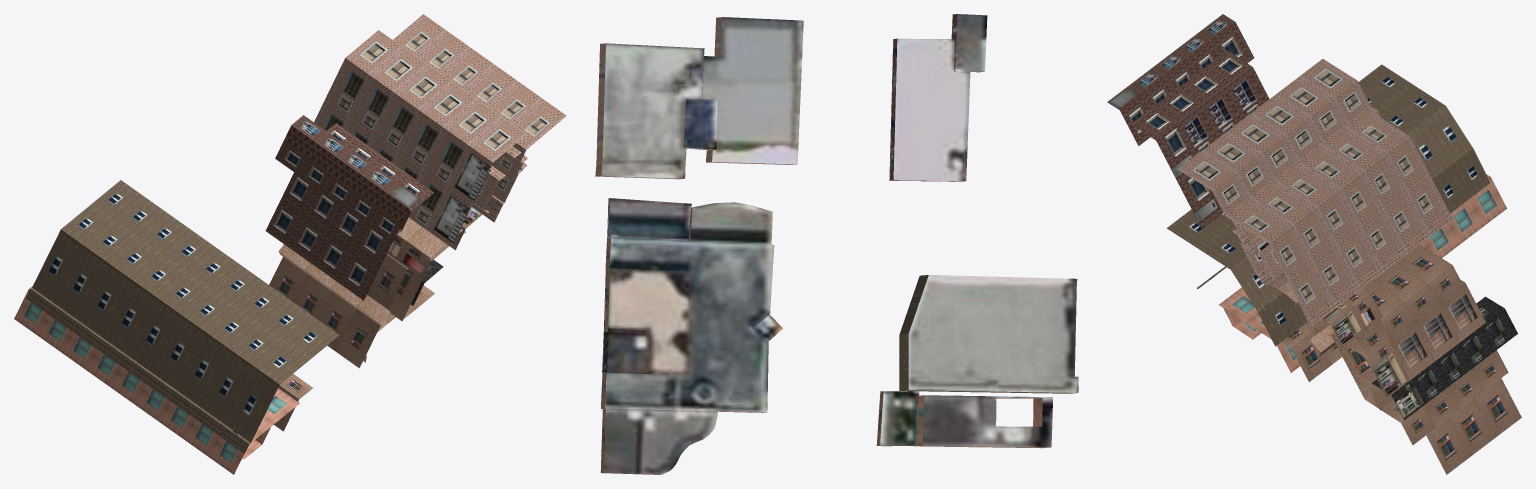
3 renders of one model, left to right at view 1: azimuth 30°, elevation 25°; view 2: azimuth 150°, elevation 25°; view 3: azimuth 270°, elevation 25°, orthographic. The views are drawn at different scales.
Bounding box in the file's own units: 59.14 × 43.56 × 44.51.
56 materials, 56 textured.
